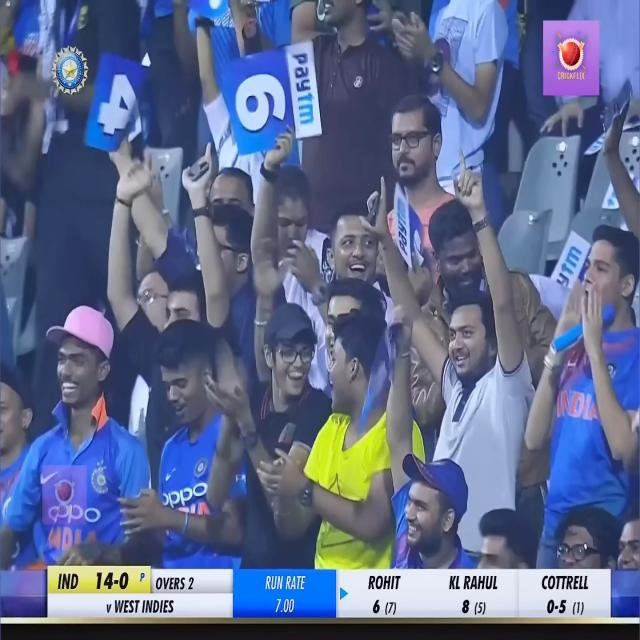fully_visible: (282, 37, 330, 142)
partially_visible: (546, 224, 589, 299), (387, 189, 421, 276)
